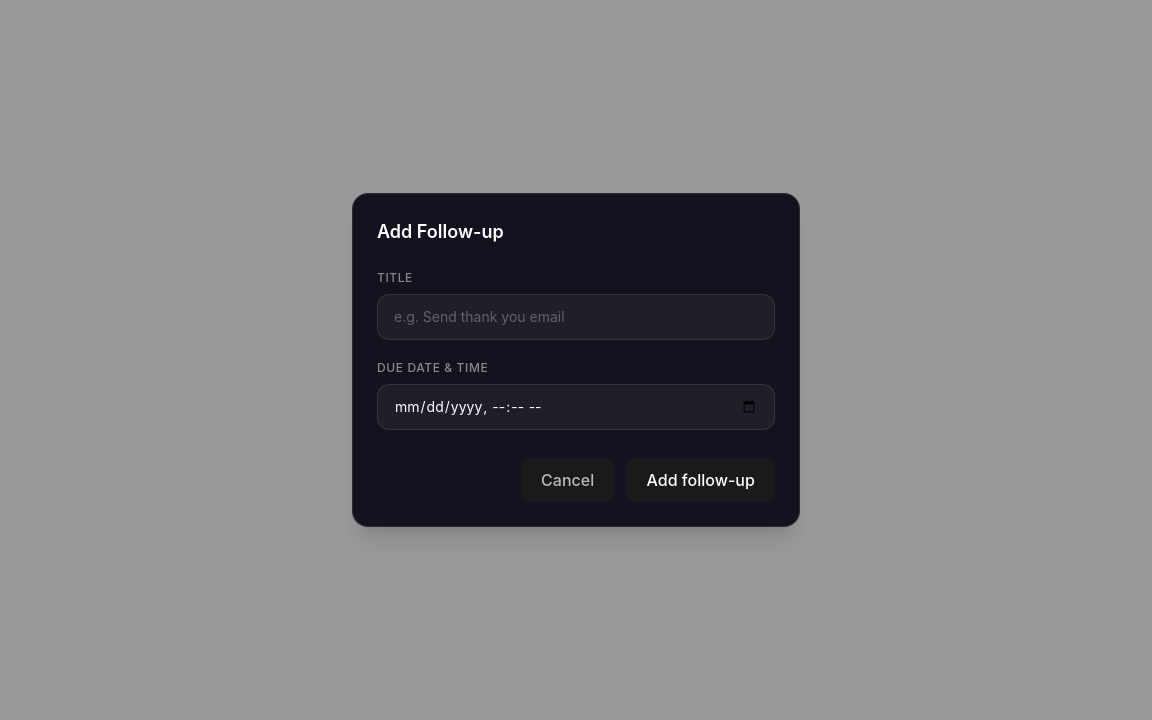
Test: FollowUpForm › shows a validation error when submitted without a due date
Type "Send thank you email" into the field labelled "Title" at (576, 317), box [377, 294, 775, 340]
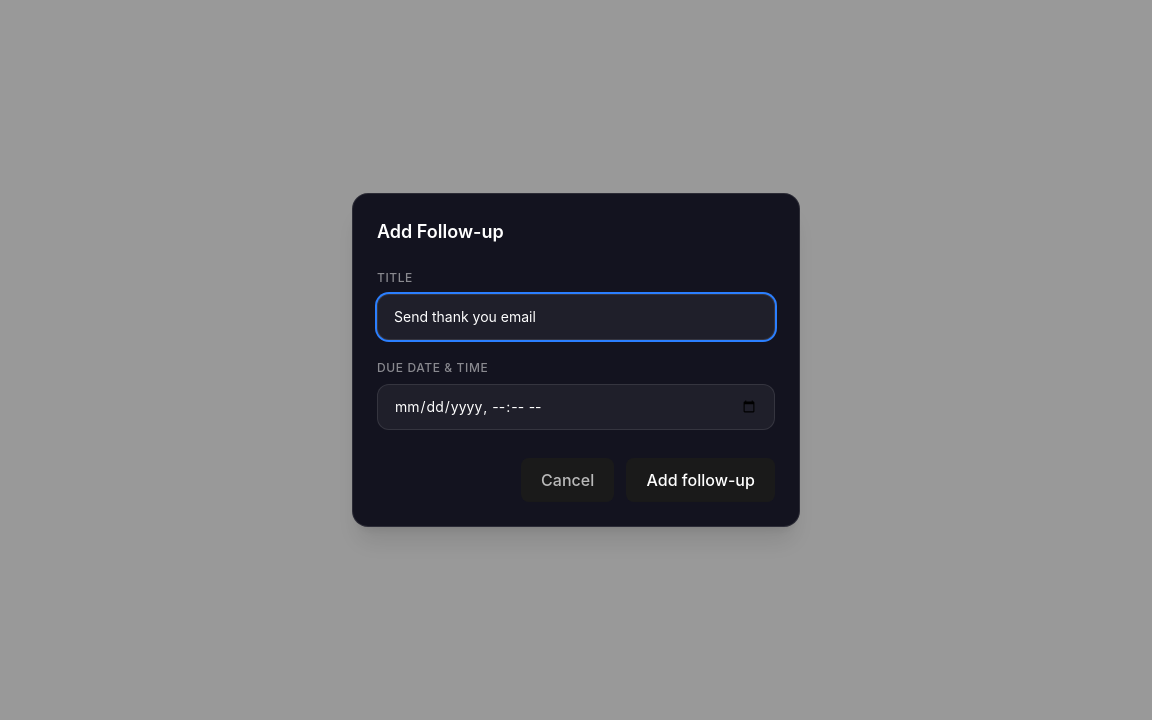
Click the button "Add follow-up" at (701, 480), box [626, 458, 775, 502]
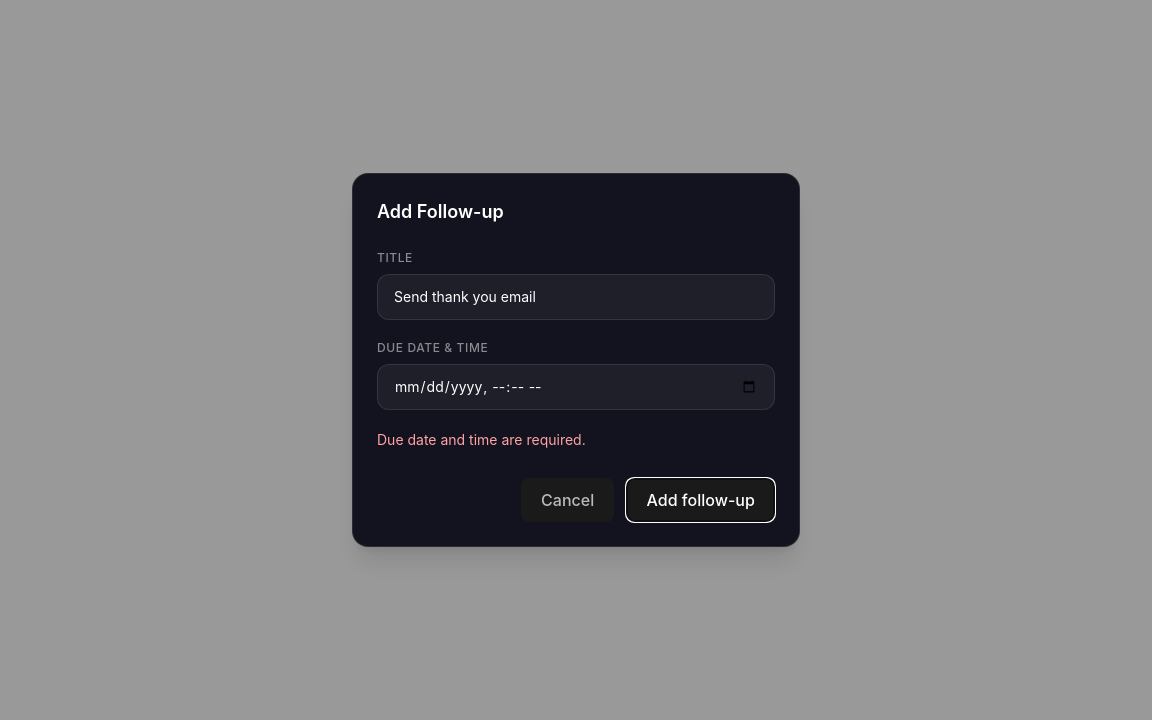
Expected: the message shows "Due date", [377, 431, 586, 448]
